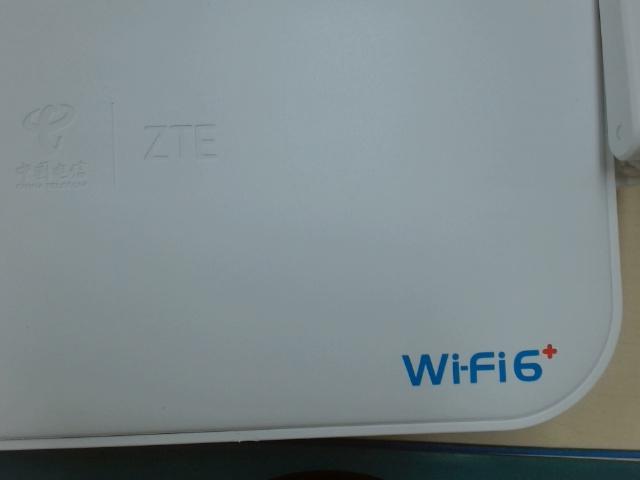AJ_ZTEWIFI6Plus: (391, 338, 562, 388)
